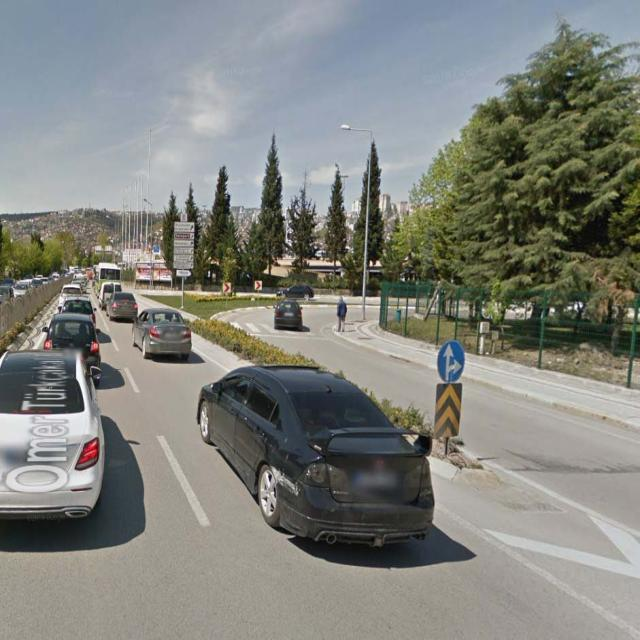ilerisag: (438, 341, 465, 381)
